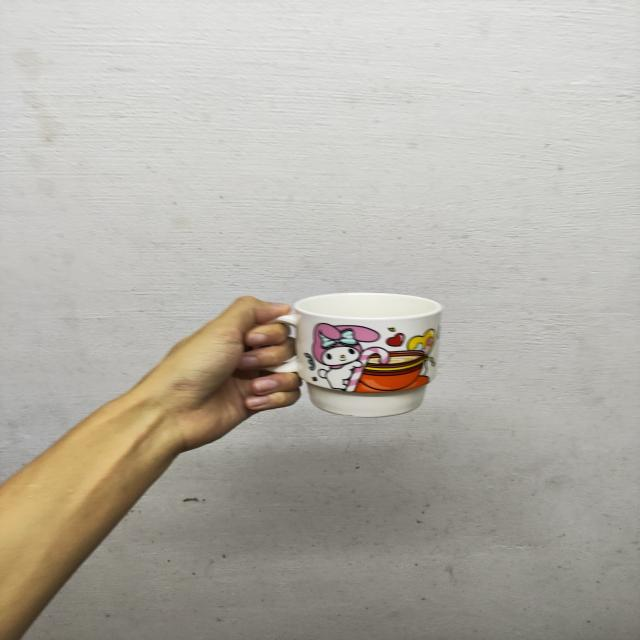cup: (265, 273, 456, 426)
